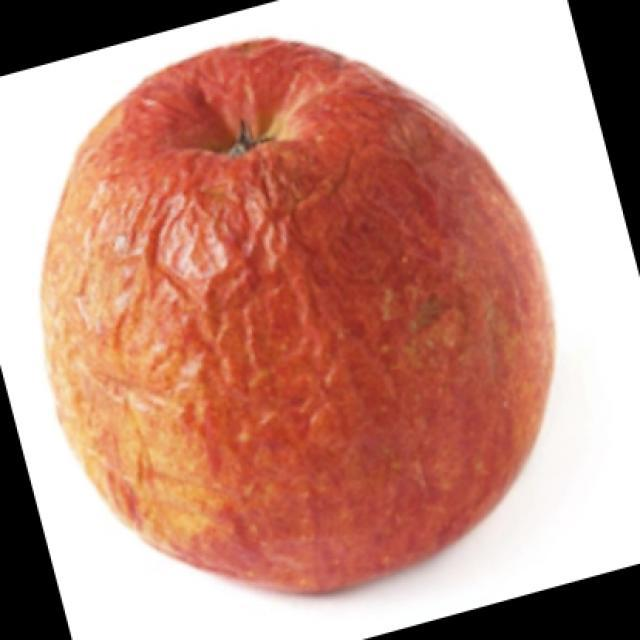Rotten: (65, 53, 535, 595)
